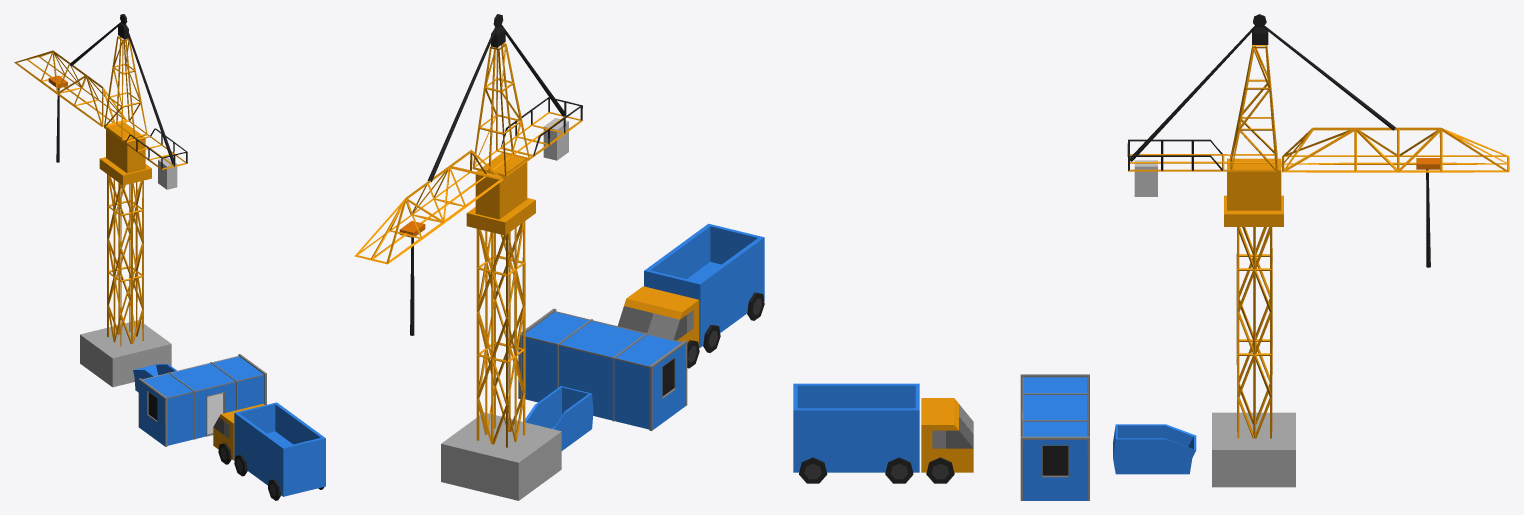
File: Construction_Assets.fbx
3 renders of one model, left to right at view 1: azimuth 30°, elevation 25°; view 2: azimuth 150°, elevation 25°; view 3: azimuth 270°, elevation 25°, orthographic. The views are drawn at different scales.
Parts seen in each view (by area): view 1: Crane, Shed, Truck, Container; view 2: Crane, Shed, Truck, Container; view 3: Crane, Truck, Shed, Container.
Boxes of the visible parts, x1=… form: Crane: x1=14, y1=14, x2=187, y2=387; Shed: x1=138, y1=354, x2=266, y2=446; Truck: x1=213, y1=402, x2=325, y2=500; Container: x1=133, y1=364, x2=176, y2=392; Crane: x1=354, y1=14, x2=582, y2=500; Shed: x1=518, y1=308, x2=687, y2=430; Truck: x1=617, y1=223, x2=764, y2=368; Container: x1=525, y1=386, x2=593, y2=450; Crane: x1=1127, y1=14, x2=1509, y2=487; Truck: x1=793, y1=383, x2=973, y2=483; Shed: x1=1020, y1=374, x2=1089, y2=500; Container: x1=1113, y1=424, x2=1196, y2=474.
Size of the model in its own units: 22.38 by 74.31 by 106.
Materials: 1 (1 with a texture image).
